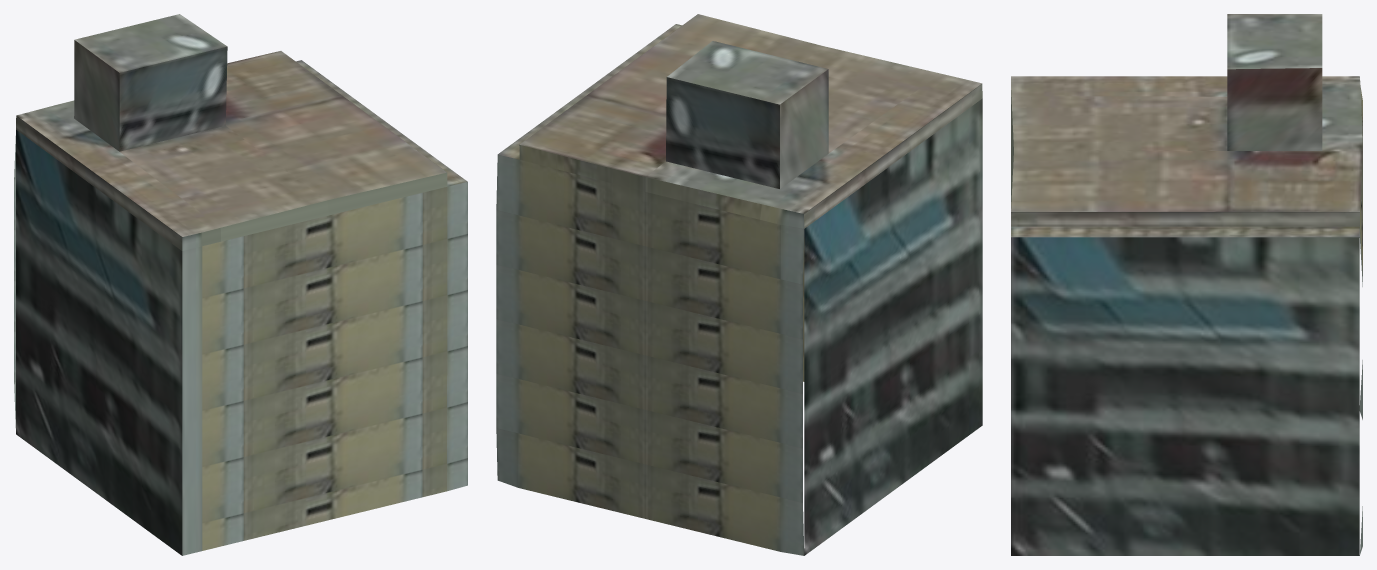
The picture shows the model from 3 angles, left to right: view 1: azimuth 30°, elevation 25°; view 2: azimuth 150°, elevation 25°; view 3: azimuth 270°, elevation 25°; orthographic projection. The views are drawn at different scales.
Visible parts, largest first — view 1: orto-edificio22-completo.052; view 2: orto-edificio22-completo.052; view 3: orto-edificio22-completo.052.
Part boxes in pixels (bbox=[...]): orto-edificio22-completo.052: bbox=[14, 14, 467, 555]; orto-edificio22-completo.052: bbox=[496, 14, 982, 555]; orto-edificio22-completo.052: bbox=[1011, 14, 1362, 555].
Bounding box in the file's own units: 2.51 × 3.33 × 2.55.
3 materials, 3 textured.
